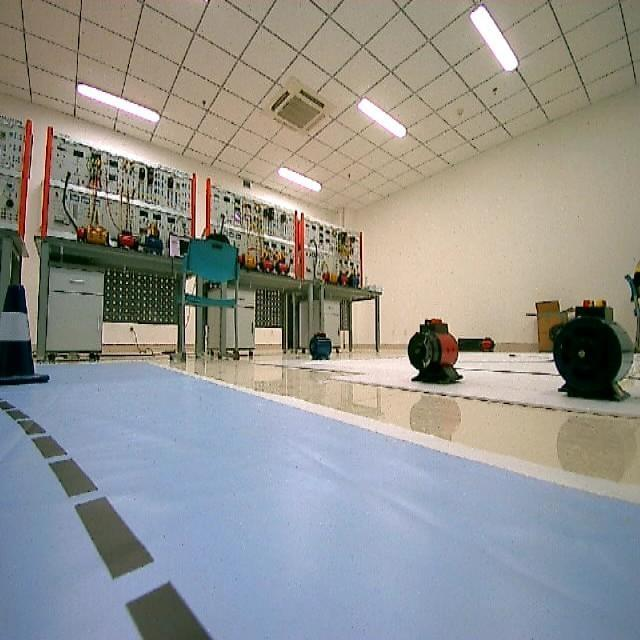obstacle: (0, 277, 52, 388)
